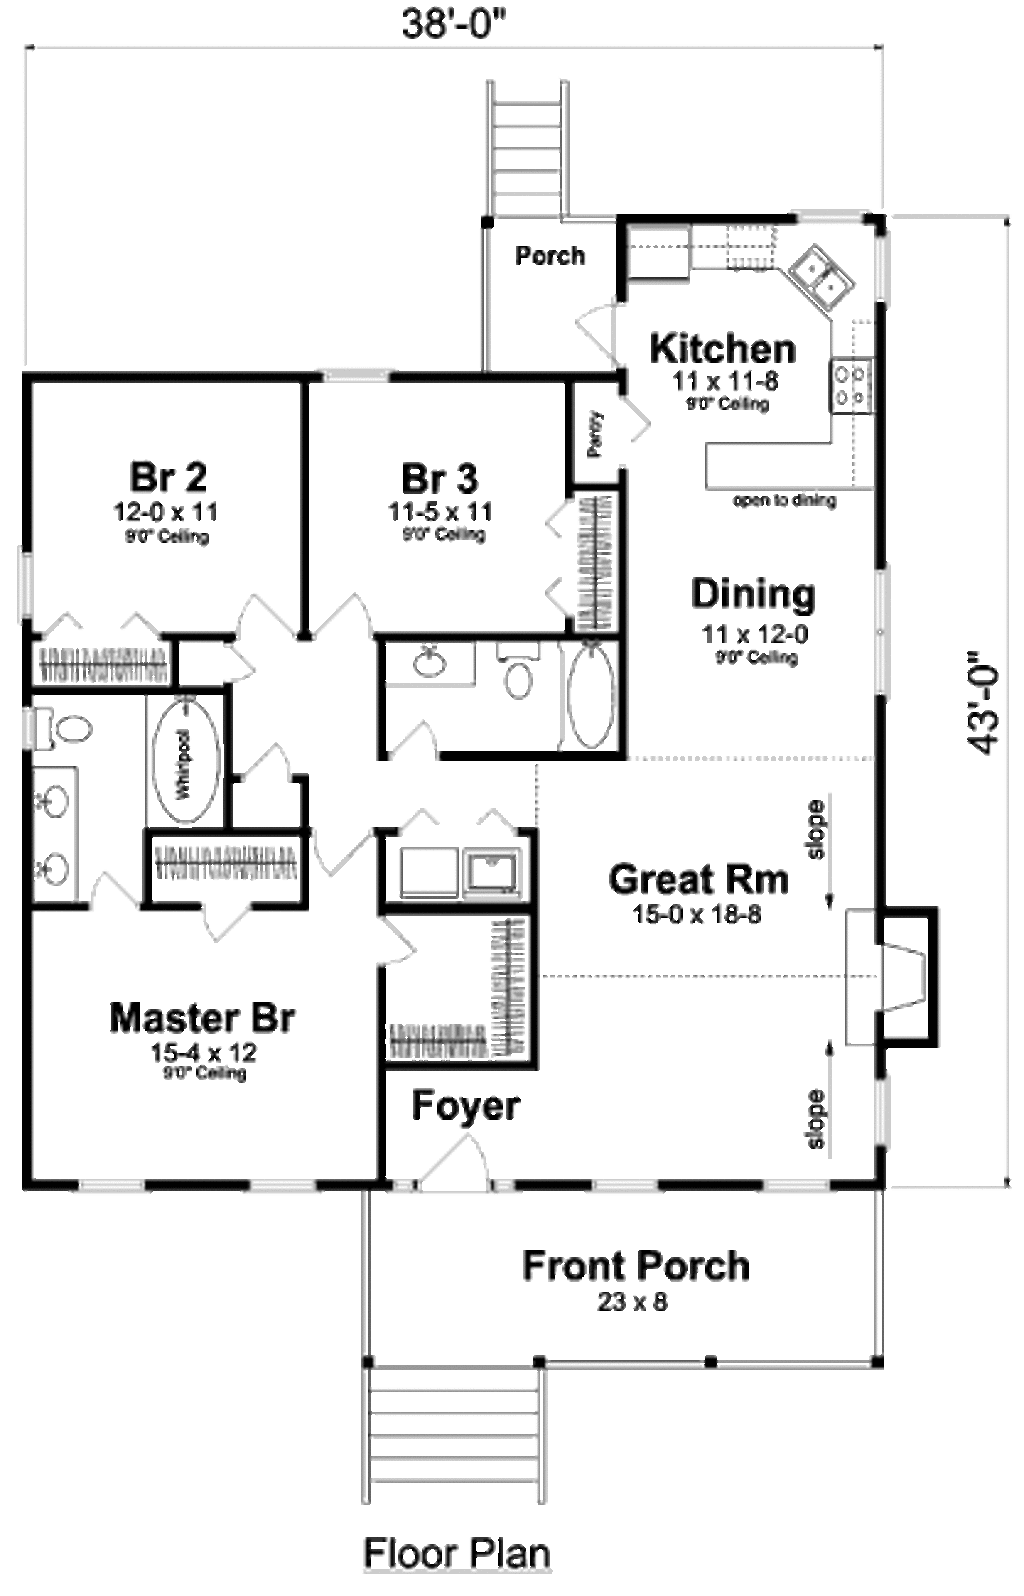door: (415, 1137, 510, 1205), (205, 900, 293, 953), (315, 583, 374, 649), (312, 827, 371, 888), (90, 861, 145, 912), (244, 739, 300, 785), (576, 305, 624, 358), (394, 714, 446, 761), (215, 636, 259, 690), (374, 912, 422, 959), (227, 590, 278, 634)
large_sink: (22, 705, 98, 761), (503, 641, 554, 710)
small_sink: (405, 639, 463, 685), (27, 783, 66, 827), (37, 846, 71, 897)
stairs: (374, 1370, 536, 1522), (493, 74, 573, 219)
tub: (154, 683, 215, 817), (568, 644, 617, 763)
twin_sink: (776, 234, 861, 312)
window: (876, 567, 893, 694), (322, 366, 390, 392)
